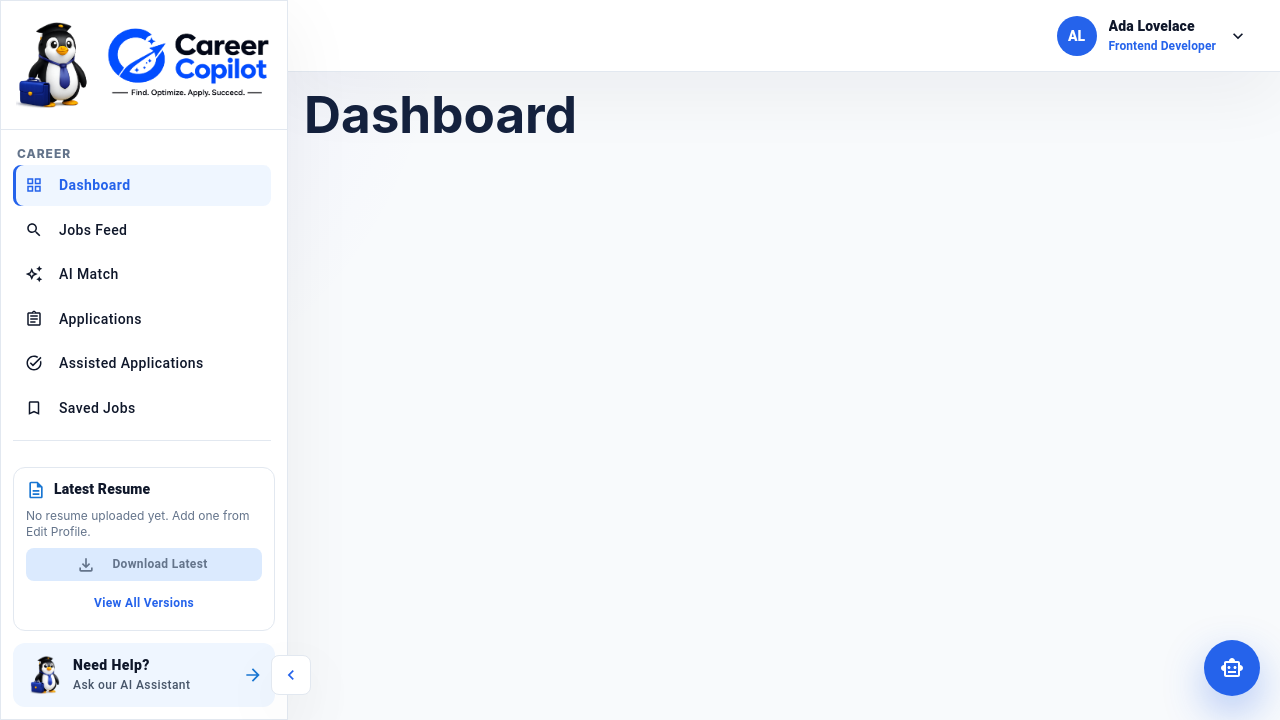
it: AppLayout › logout flow › does not offer Upload Resume in the user menu
Click the button with aria-label "user menu" at (1152, 36), box [1057, 16, 1248, 56]
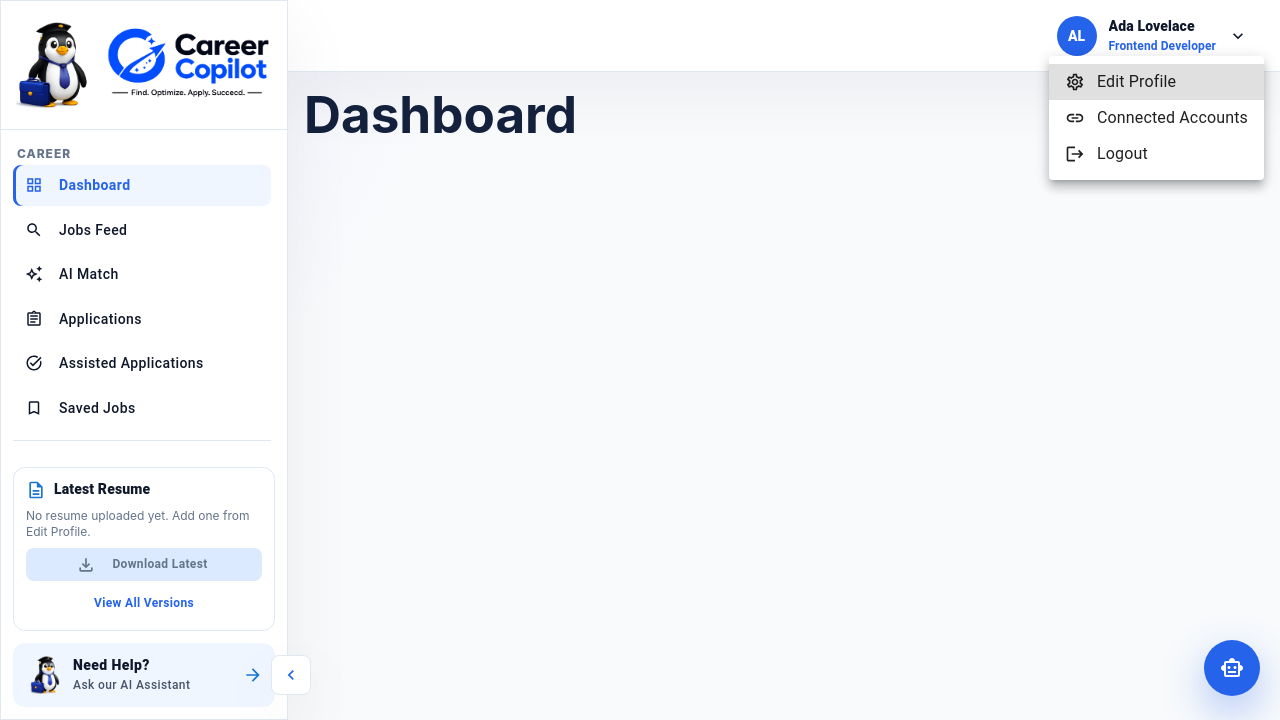
Now the menu item "Edit Profile" is shown, box [1049, 64, 1264, 100]
